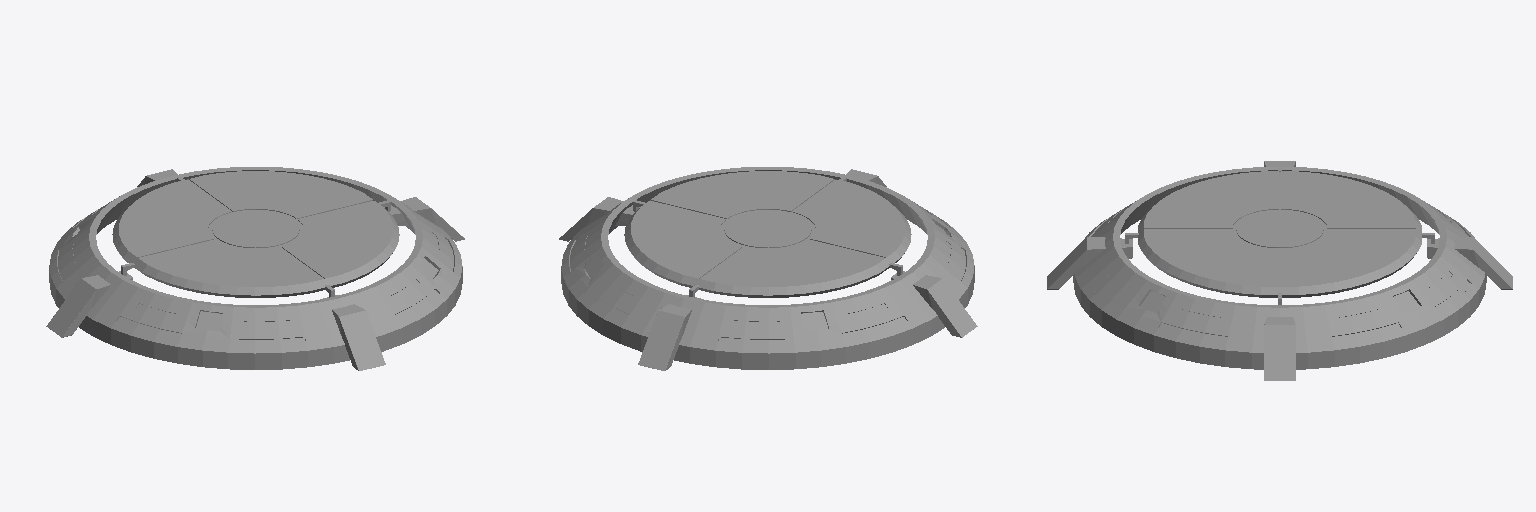
The model's file is button_floor_export.obj.
3 views of the same model, side by side, from view 1: azimuth 30°, elevation 25°; view 2: azimuth 150°, elevation 25°; view 3: azimuth 270°, elevation 25° (orthographic).
Parts seen in each view (by area): view 1: button_floor_fixator001; view 2: button_floor_fixator001; view 3: button_floor_fixator001.
Boxes of the visible parts, x1=… form: button_floor_fixator001: x1=46, y1=167, x2=464, y2=370; button_floor_fixator001: x1=559, y1=167, x2=977, y2=370; button_floor_fixator001: x1=1047, y1=161, x2=1512, y2=380.
Bounding box in the file's own units: 1.13 × 0.144 × 1.13.